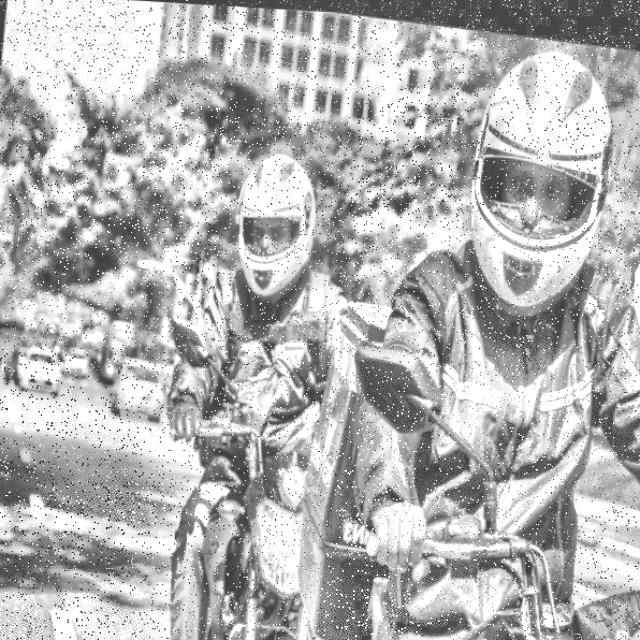Helmet: (454, 29, 628, 322), (225, 136, 328, 307)
